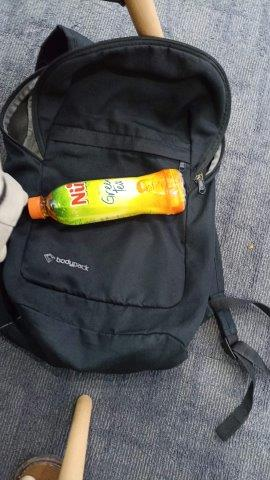botolplastik: (28, 169, 186, 225)
